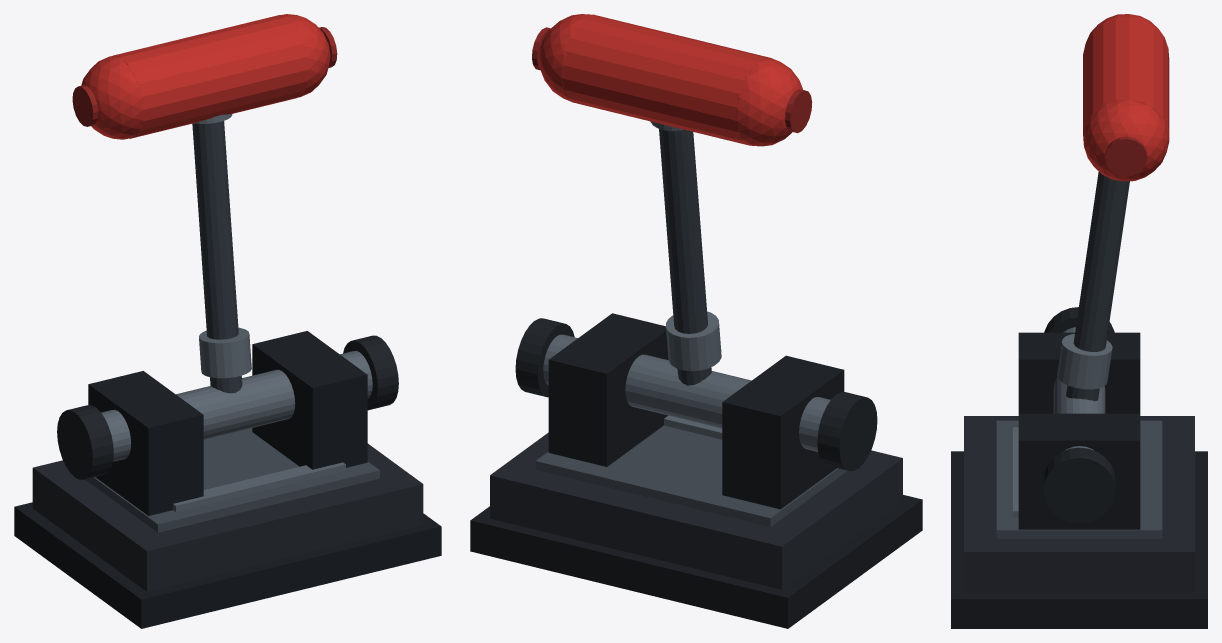
Rendered from SpaceGamble_Lever.obj.
3 views of the same model, side by side, from view 1: azimuth 30°, elevation 25°; view 2: azimuth 150°, elevation 25°; view 3: azimuth 270°, elevation 25° (orthographic). The views are drawn at different scales.
Parts seen in each view (by area): view 1: BaseHousing, BaseLower, RedGripCore, HingeCheek_R, HingeCheek_L, TopInset, LeverStem, PivotAxle, RedGripEnd_L, PivotCap_L, InsetStripe, PivotCap_R (+3 smaller); view 2: BaseHousing, BaseLower, RedGripCore, HingeCheek_R, HingeCheek_L, TopInset, LeverStem, PivotAxle, RedGripEnd_L, PivotCap_L, PivotCap_R, StemLowerCollar (+3 smaller); view 3: BaseHousing, BaseLower, HingeCheek_R, RedGripCore, TopInset, LeverStem, HingeCheek_L, PivotCap_R, RedGripEnd_R, StemLowerCollar, GripEndMark_R, PivotAxle (+2 smaller).
Part boxes in pixels (x1,y1,x2,y2): BaseHousing: (32,443,423,591); BaseLower: (14,502,441,628); RedGripCore: (112,15,308,138); HingeCheek_R: (252,331,367,469); HingeCheek_L: (88,371,203,515); TopInset: (85,428,379,532); LeverStem: (192,121,242,393); PivotAxle: (101,351,372,461); RedGripEnd_L: (81,56,144,139); PivotCap_L: (57,405,113,479); InsetStripe: (173,462,345,511); PivotCap_R: (343,335,398,410); BaseHousing: (490,432,902,589); BaseLower: (470,495,922,628); RedGripCore: (561,15,768,145); HingeCheek_R: (548,313,668,466); HingeCheek_L: (722,355,844,509); TopInset: (535,425,847,526); LeverStem: (659,129,711,385); PivotAxle: (543,334,830,451); RedGripEnd_L: (736,57,802,146); PivotCap_L: (817,392,877,470); PivotCap_R: (515,318,574,397); StemLowerCollar: (666,311,721,371); BaseHousing: (964,416,1194,593); BaseLower: (951,451,1207,628); HingeCheek_R: (1018,413,1140,529); RedGripCore: (1083,17,1169,138); TopInset: (996,420,1162,538); LeverStem: (1066,171,1129,401); HingeCheek_L: (1018,332,1140,413); PivotCap_R: (1043,447,1115,523); RedGripEnd_R: (1083,99,1169,181); StemLowerCollar: (1057,334,1112,389); GripEndMark_R: (1105,136,1147,176); PivotAxle: (1053,327,1105,450).
Bounding box in the file's own units: 0.306 × 0.4688 × 0.22.
